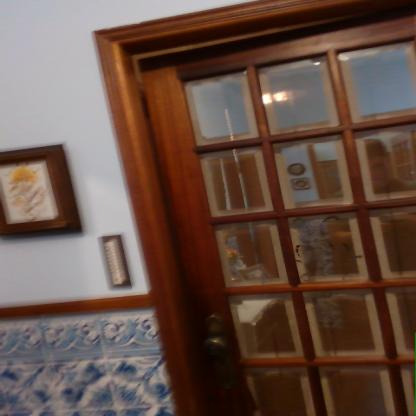closed: (61, 19, 416, 416)
